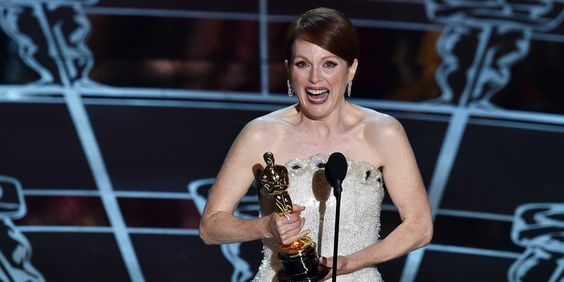hand: (259, 205, 308, 240)
